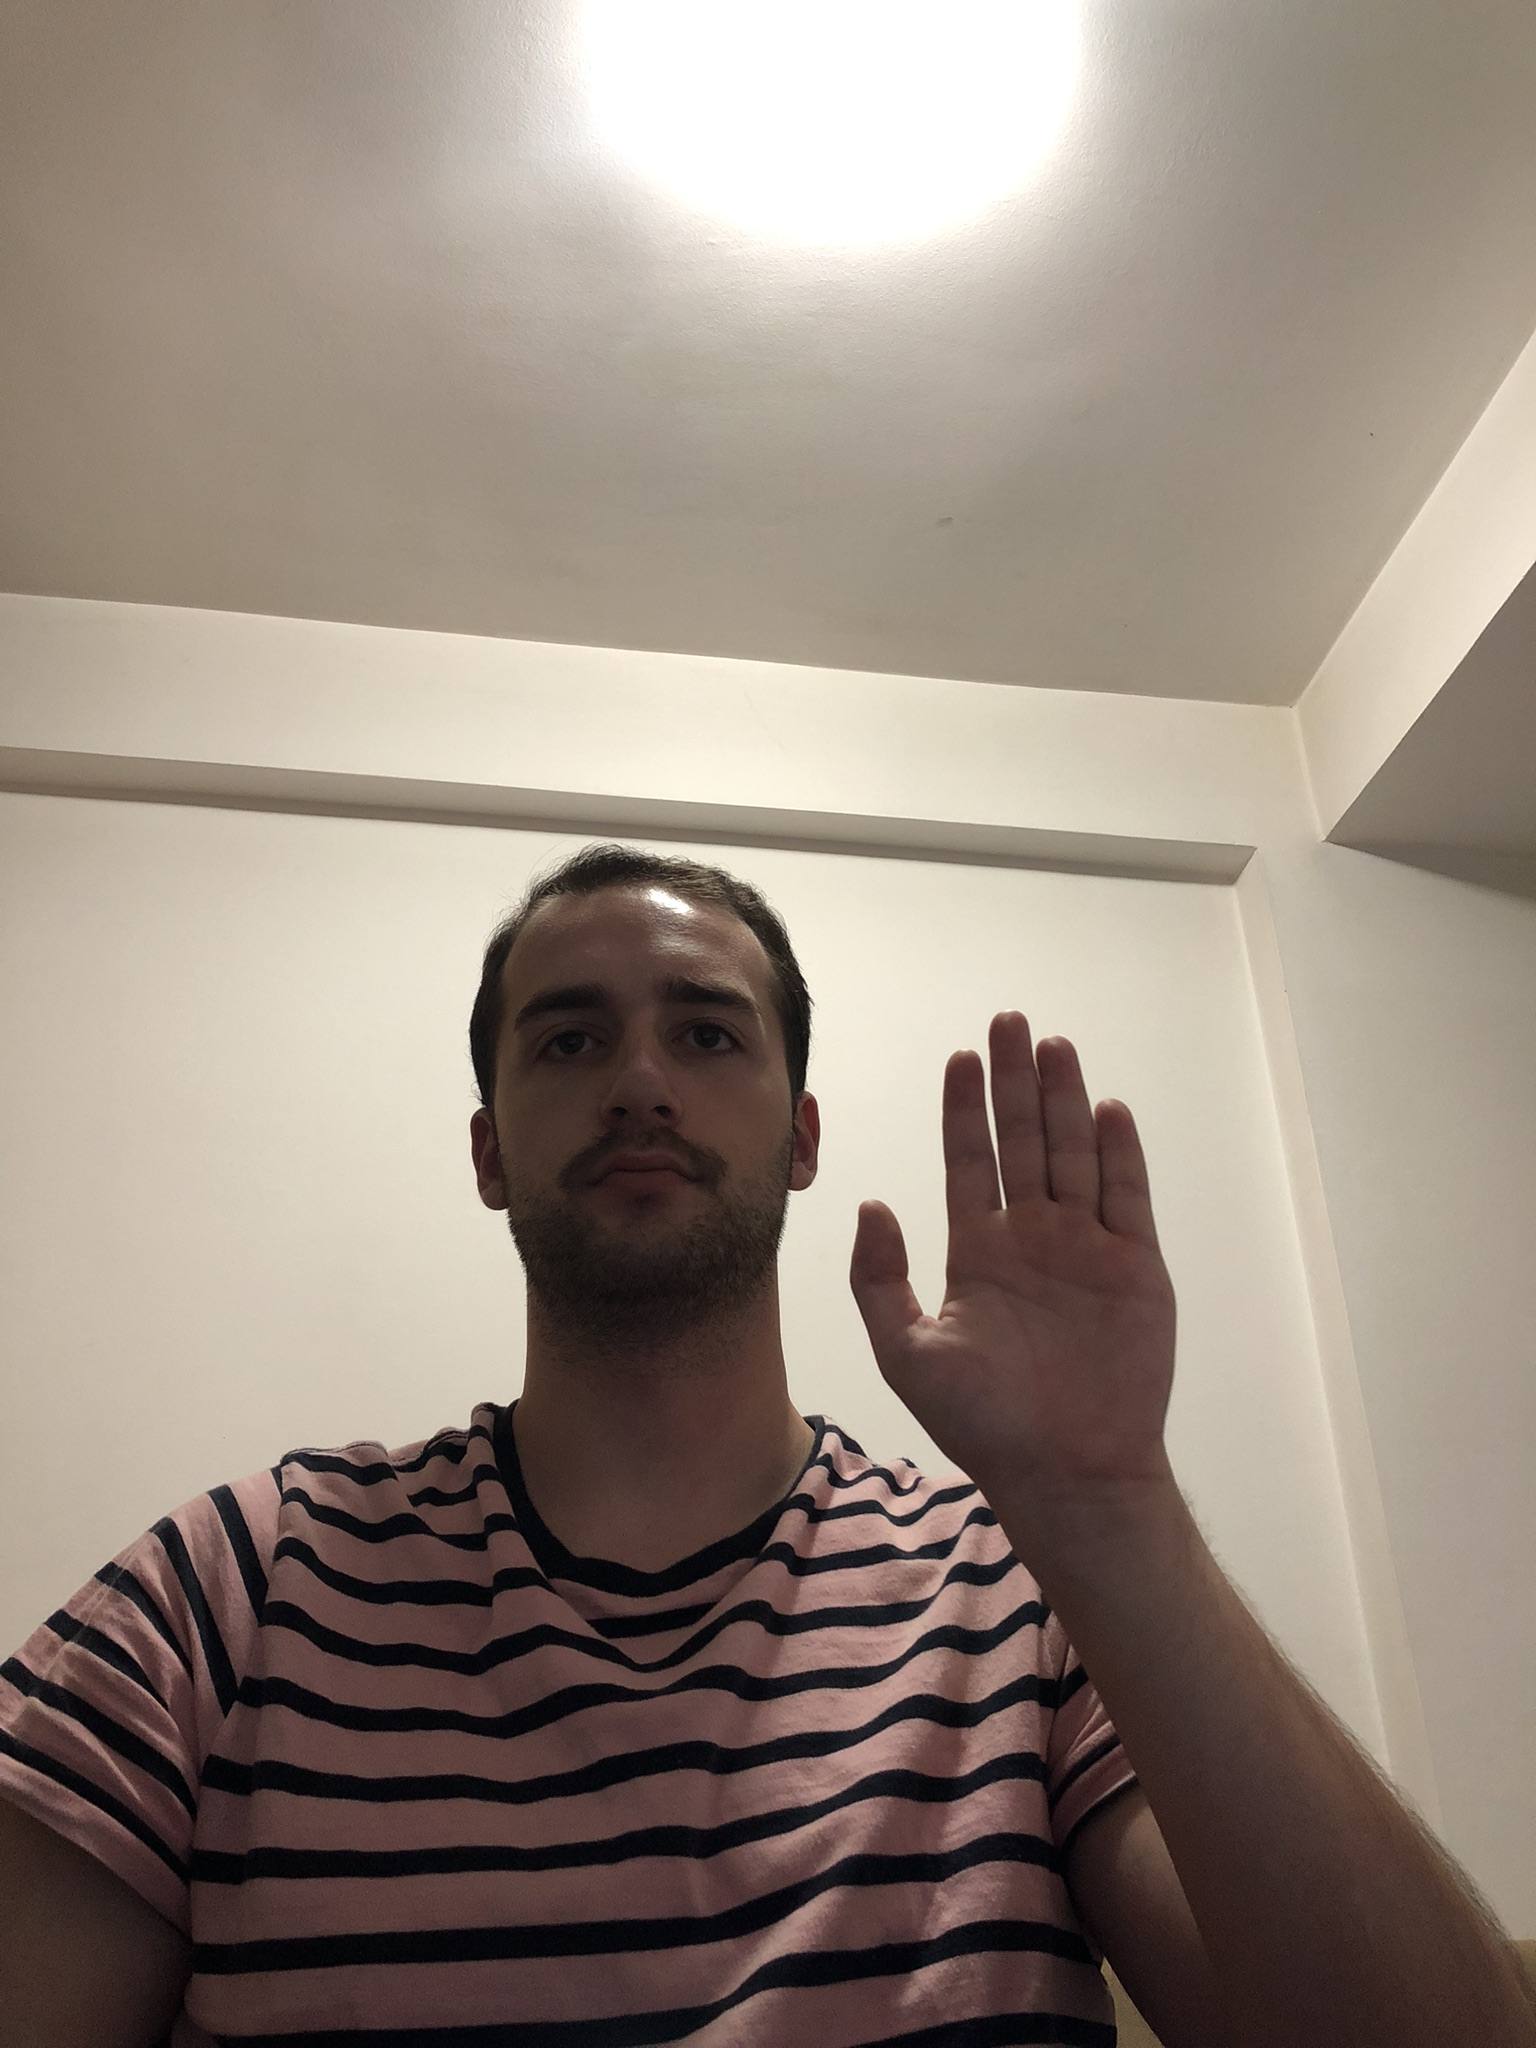Hello: (841, 997, 1208, 1527)
